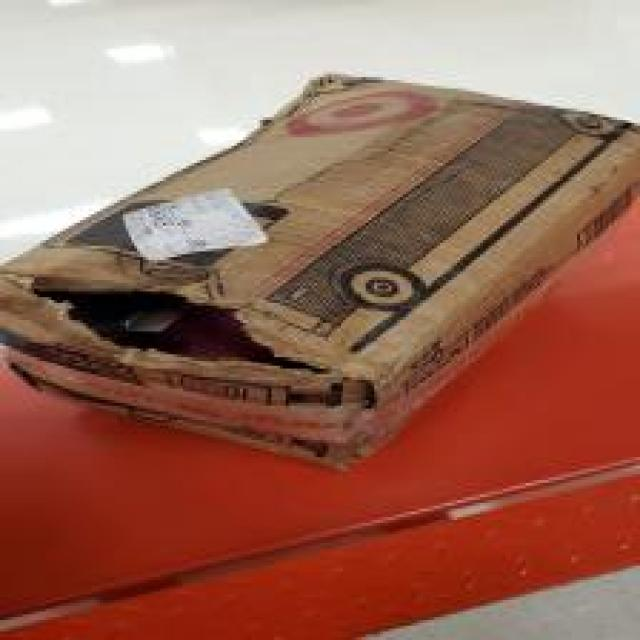box: (54, 1, 605, 479)
opened: (54, 134, 605, 477)
